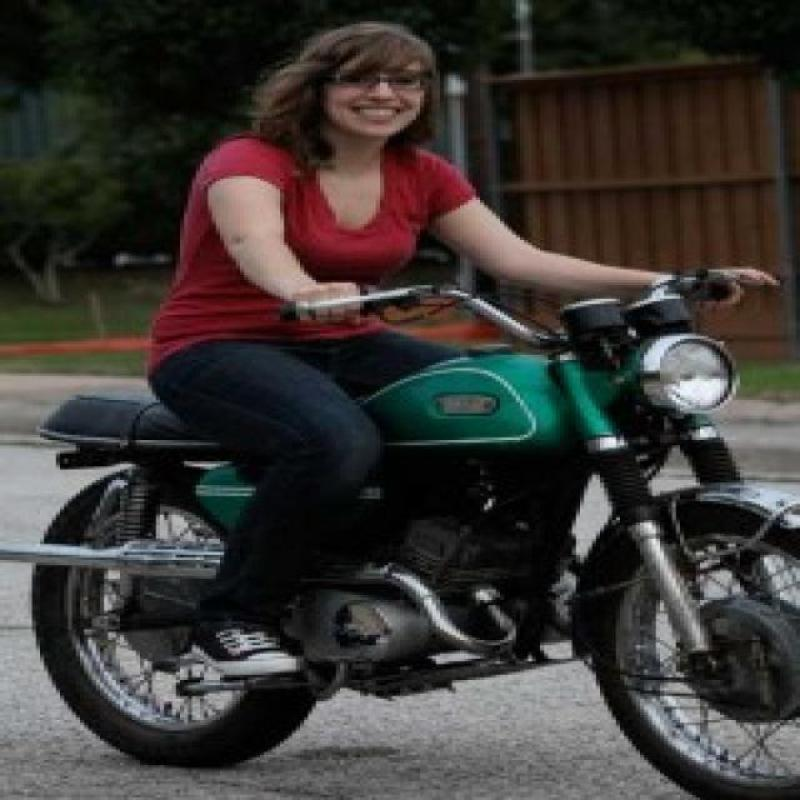nohelmet: (286, 9, 450, 179)
